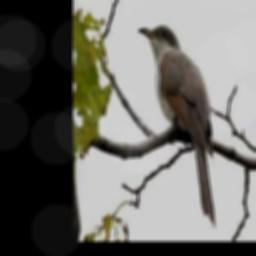Cuckoo: (138, 25, 215, 227)
